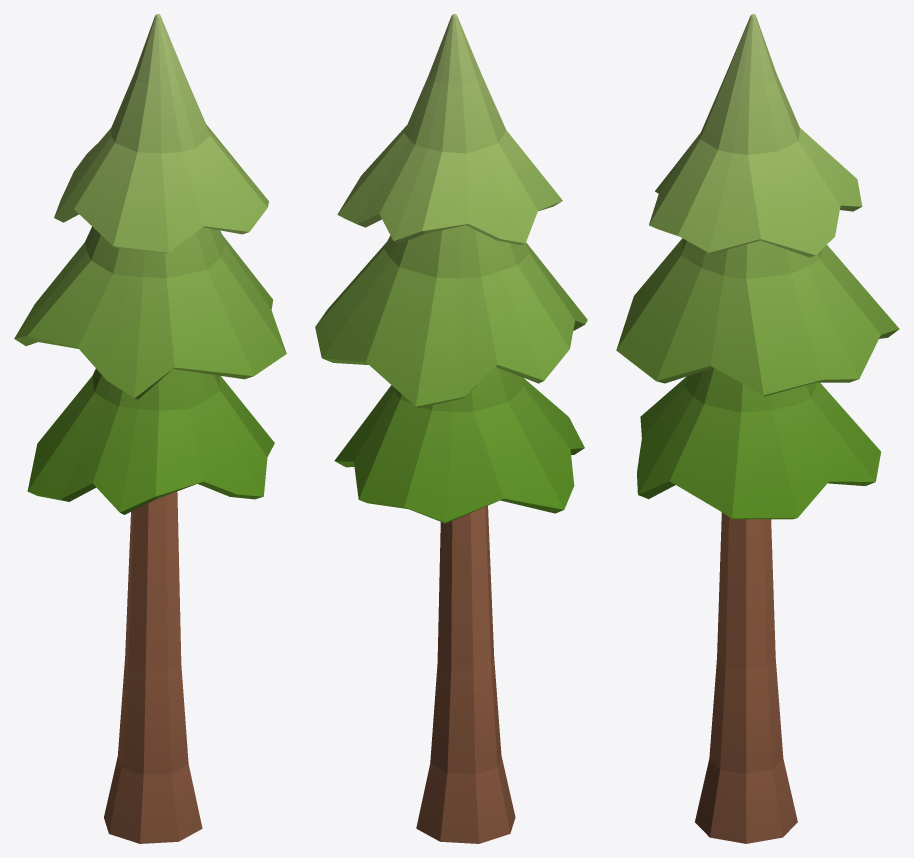
Rendered from pine tree large.fbx.
The picture shows the model from 3 angles, left to right: view 1: azimuth 30°, elevation 25°; view 2: azimuth 150°, elevation 25°; view 3: azimuth 270°, elevation 25°; orthographic projection.
Visible parts, largest first — view 1: pine tree large; view 2: pine tree large; view 3: pine tree large.
Part boxes in pixels (bbox=[...]): pine tree large: bbox=[14, 14, 286, 843]; pine tree large: bbox=[315, 14, 587, 843]; pine tree large: bbox=[616, 14, 899, 843].
Bounding box in the file's own units: 300 × 947 × 300.
